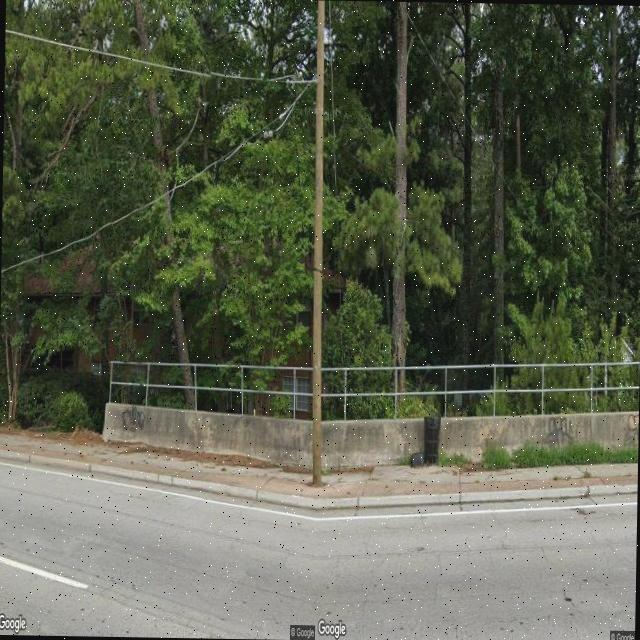trash_can: (423, 414, 441, 466)
